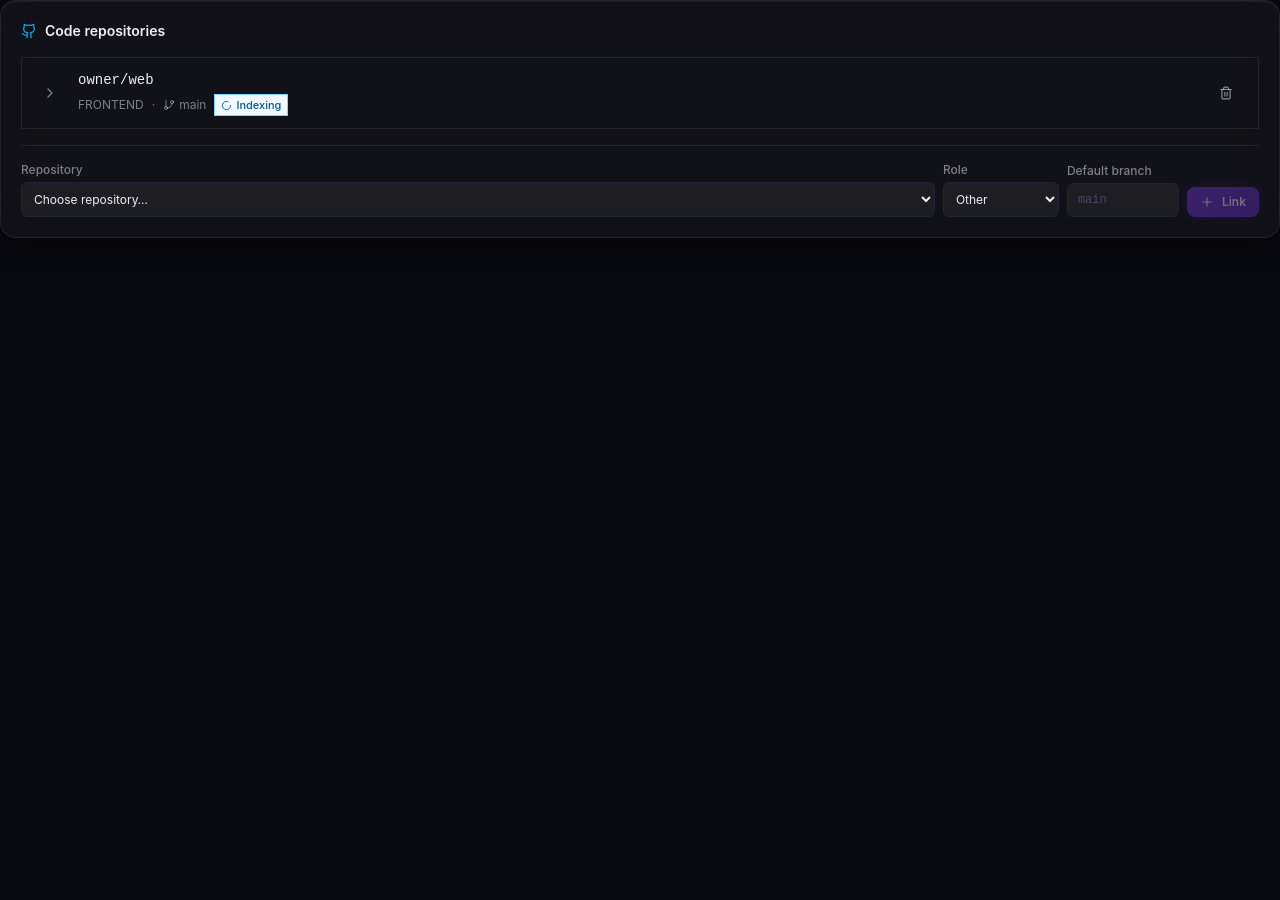
Test: ProjectReposPanel › shows live branch progress and stale-refreshing state
Click the button named "Expand repository". click: click(50, 93)
box: [34,77,66,109]
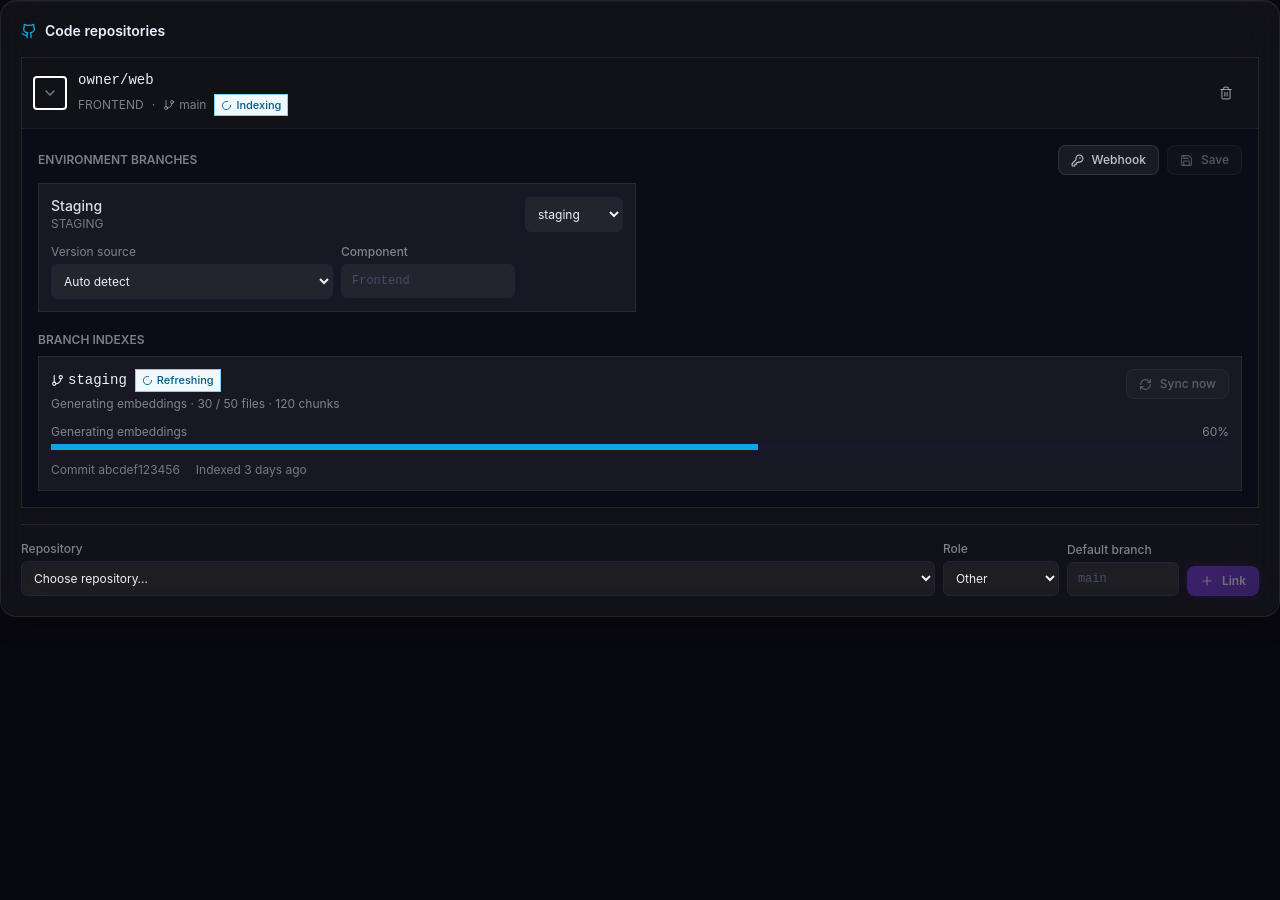
Expected: the text "Generating embeddings" is shown, [51,424,187,440]
Expected: the text "Generating embeddings · 30 / 50 files · 120 chunks" is shown, [51,396,340,412]
Expected: the text "Refreshing" is shown, [135,369,221,392]
